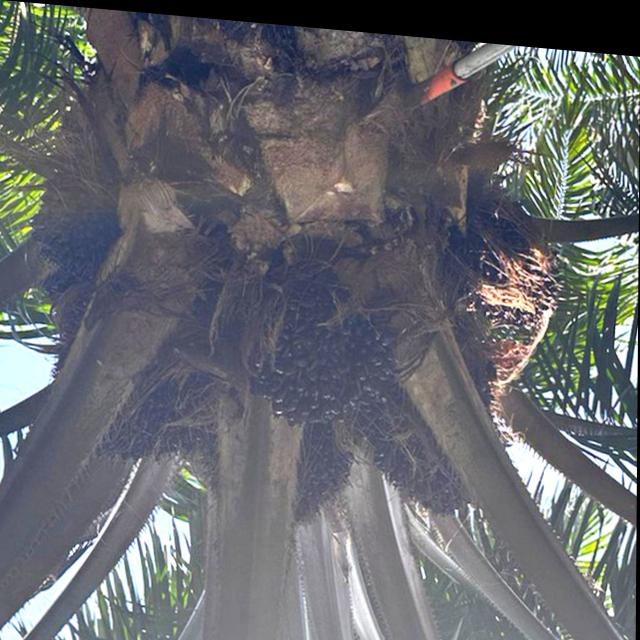unripe: (239, 250, 408, 431), (350, 396, 479, 513), (94, 356, 201, 458), (24, 203, 122, 282)
